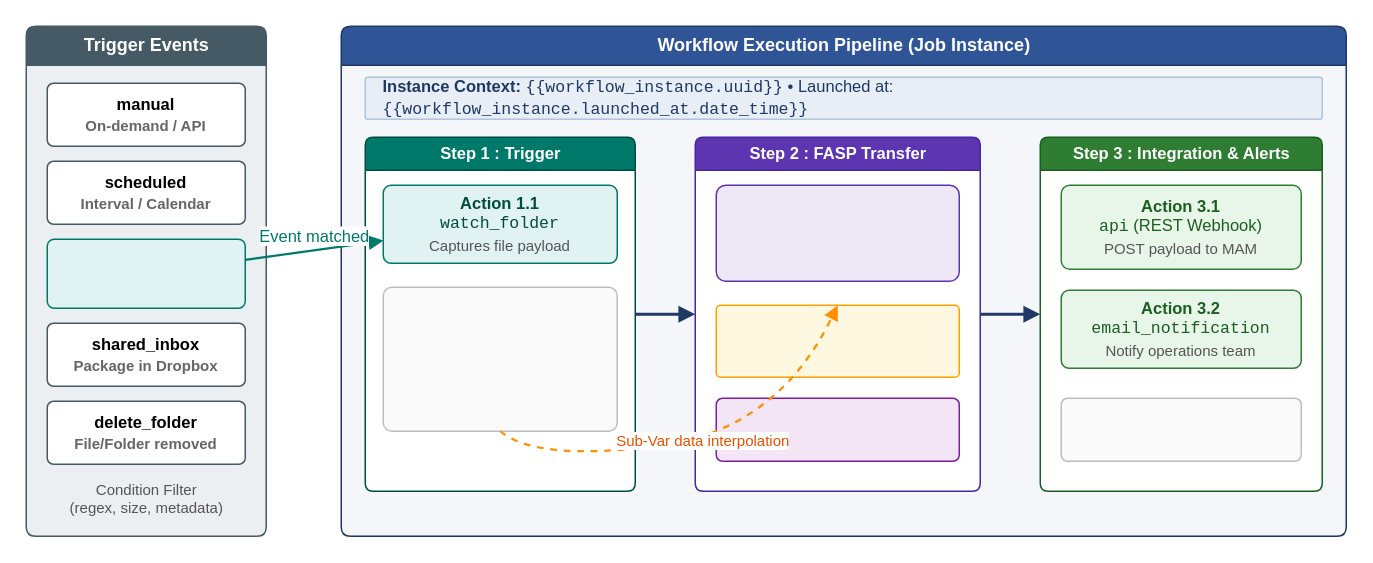
This 1373x563 diagram has some shape labels left out. The centre of each missing label's shape, as x and y in pixels:
"Action 2.1 transfer High-speed FASP Move AES-256 encryption" goes at point 837,232.
"Action 2.2 custom_var (context tags)" goes at point 837,429.
"Outputs Produced: • filename • filepath • file_id • node_id" goes at point 499,358.
"Status: completed / failed" goes at point 1180,429.
"Sub-Var Reference: {{{step_id_1.action_id_1.filename}}}" goes at point 837,340.
"watch_folder New files on Node / WS" goes at point 145,273.
